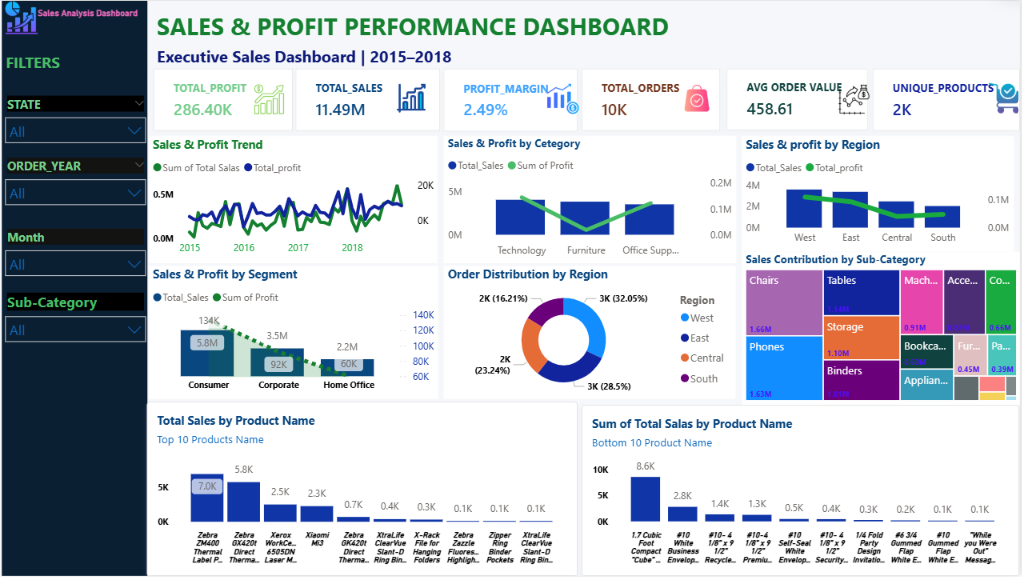

This screenshot's page, from the dashboard's own definition file:
{"tool":"powerbi","page":{"name":"SALES PERFOMANCE ","canvas":[1280,720],"ordinal":0},"visuals":[{"type":"shape","box":[6,0,182,720],"z":0},{"type":"textbox","title":"SALES & PROFIT PERFORMANCE DASHBOARD","box":[195,11.2,658.8,73.8],"z":1000},{"type":"cardVisual","fields":{"Data":["Sum(Orders.Total Salas)"]},"box":[373.8,85,180,77.5],"z":2000},{"type":"cardVisual","fields":{"Data":["Orders.Total_Orders"]},"box":[731.2,85,172.5,77.5],"z":3000},{"type":"cardVisual","fields":{"Data":["Orders.Profit Margin"]},"box":[558.2,84.5,167.3,78.2],"z":4000},{"type":"cardVisual","fields":{"Data":["Orders.Avg Order Value"]},"box":[912.3,84.6,176.2,76.9],"z":5000},{"type":"lineChart","title":"Sales & Profit Trend","fields":{"Category":["Orders.Order Date.Variation.Date Hierarchy.Year","Orders.Order Date.Variation.Date Hierarchy.Month"],"Y":["Sum(Orders.Total Salas)"],"Y2":["Orders.Total_profit"]},"box":[190,168.9,361.1,158.9],"z":6000},{"type":"lineClusteredColumnComboChart","title":"Sales & profit by Region","fields":{"Category":["Orders.Region"],"Y":["Orders.Total_Sales"],"Y2":["Orders.Total_profit"]},"box":[931.2,168.8,340,145],"z":7000},{"type":"lineClusteredColumnComboChart","title":"Sales & Profit by Segment","fields":{"Category":["Orders.Segment"],"Y":["Orders.Total_Sales"],"Y2":["Sum(Orders.Profit)"]},"box":[190,331.2,361.2,166.2],"z":8000},{"type":"lineClusteredColumnComboChart","title":"Sales &  Profit by Cetegory ","fields":{"Category":["Orders.Category"],"Y":["Orders.Total_Sales"],"Y2":["Sum(Orders.Profit)"]},"box":[558.9,168.9,365.6,158.9],"z":9000},{"type":"treemap","title":"Sales Contribution by Sub-Category","fields":{"Values":["Orders.Total_Sales"],"Group":["Orders.Sub-Category"]},"box":[931.2,313.8,348.8,191.2],"z":10000},{"type":"lineClusteredColumnComboChart","title":"Total Sales by Product Name","fields":{"Category":["Orders.Product Name"],"Y":["Sum(Orders.Sales)"]},"box":[187.5,501.2,538.8,218.8],"z":11000},{"type":"clusteredColumnChart","fields":{"Category":["Orders.Product Name"],"Y":["Sum(Orders.Total Salas)"]},"box":[731.8,505.5,548.2,214.5],"z":12000},{"type":"image","box":[0,0,61.2,42.5],"z":13000},{"type":"textbox","box":[45.7,0,264.3,48.6],"z":14000},{"type":"cardVisual","fields":{"Data":["Orders.Unique Orders"]},"box":[1095,85,185,77.5],"z":15000},{"type":"cardVisual","fields":{"Data":["Orders.Total_profit"]},"box":[196.2,85,173.8,77.5],"z":16000},{"type":"slicer","fields":{"Values":["Orders.State"]},"box":[0,113.3,196.7,78.3],"z":17000},{"type":"slicer","fields":{"Values":["Orders.Order - year"]},"box":[0,191.7,196.7,71.7],"z":18000},{"type":"slicer","fields":{"Values":["Orders.Order Date.Variation.Date Hierarchy.Month"]},"box":[0,280,196.7,66.7],"z":19000},{"type":"slicer","fields":{"Values":["Orders.Sub-Category"]},"box":[0,360,196.7,80],"z":20000},{"type":"textbox","box":[5.7,64.3,181.4,38.6],"z":21000},{"type":"donutChart","title":"Order Distribution by Region","fields":{"Y":["Orders.Total_Orders"],"Category":["Orders.Region"]},"box":[558.8,331.2,365,166.2],"z":22000},{"type":"image","box":[297.1,104.3,85.7,38.6],"z":23000},{"type":"image","box":[678.6,102.9,57.1,40],"z":24000},{"type":"image","box":[837.1,102.9,75,38.6],"z":25000},{"type":"image","box":[458.6,102.9,117.9,38.6],"z":26000},{"type":"image","box":[1047,104,48,39],"z":27000},{"type":"image","box":[1237.1,102.9,42.9,38.6],"z":28000}]}

Visuals, with their boxes in screenshot pixels (x1, y1, x2, y2), scaled from the page's 1280x720 canvas onto the 1022x577 screenshot:
shape: Rect(5, 0, 150, 576)
"SALES & PROFIT PERFORMANCE DASHBOARD" textbox: Rect(156, 9, 682, 68)
cardVisual - Sum(Orders.Total Salas): Rect(298, 68, 442, 130)
cardVisual - Orders.Total_Orders: Rect(584, 68, 722, 130)
cardVisual - Orders.Profit Margin: Rect(446, 68, 579, 130)
cardVisual - Orders.Avg Order Value: Rect(728, 68, 869, 129)
"Sales & Profit Trend" lineChart: Rect(152, 135, 440, 263)
"Sales & profit by Region" lineClusteredColumnComboChart: Rect(744, 135, 1015, 251)
"Sales & Profit by Segment" lineClusteredColumnComboChart: Rect(152, 265, 440, 399)
"Sales &  Profit by Cetegory " lineClusteredColumnComboChart: Rect(446, 135, 738, 263)
"Sales Contribution by Sub-Category" treemap: Rect(744, 251, 1021, 405)
"Total Sales by Product Name" lineClusteredColumnComboChart: Rect(150, 402, 580, 576)
clusteredColumnChart - Orders.Product Name x Sum(Orders.Total Salas): Rect(584, 405, 1021, 576)
image: Rect(0, 0, 49, 34)
textbox: Rect(36, 0, 248, 39)
cardVisual - Orders.Unique Orders: Rect(874, 68, 1021, 130)
cardVisual - Orders.Total_profit: Rect(157, 68, 295, 130)
slicer - Orders.State: Rect(0, 91, 157, 154)
slicer - Orders.Order - year: Rect(0, 154, 157, 211)
slicer - Orders.Order Date.Variation.Date Hierarchy.Month: Rect(0, 224, 157, 278)
slicer - Orders.Sub-Category: Rect(0, 288, 157, 353)
textbox: Rect(5, 52, 149, 82)
"Order Distribution by Region" donutChart: Rect(446, 265, 738, 399)
image: Rect(237, 84, 306, 115)
image: Rect(542, 82, 587, 115)
image: Rect(668, 82, 728, 113)
image: Rect(366, 82, 460, 113)
image: Rect(836, 83, 874, 115)
image: Rect(988, 82, 1021, 113)
